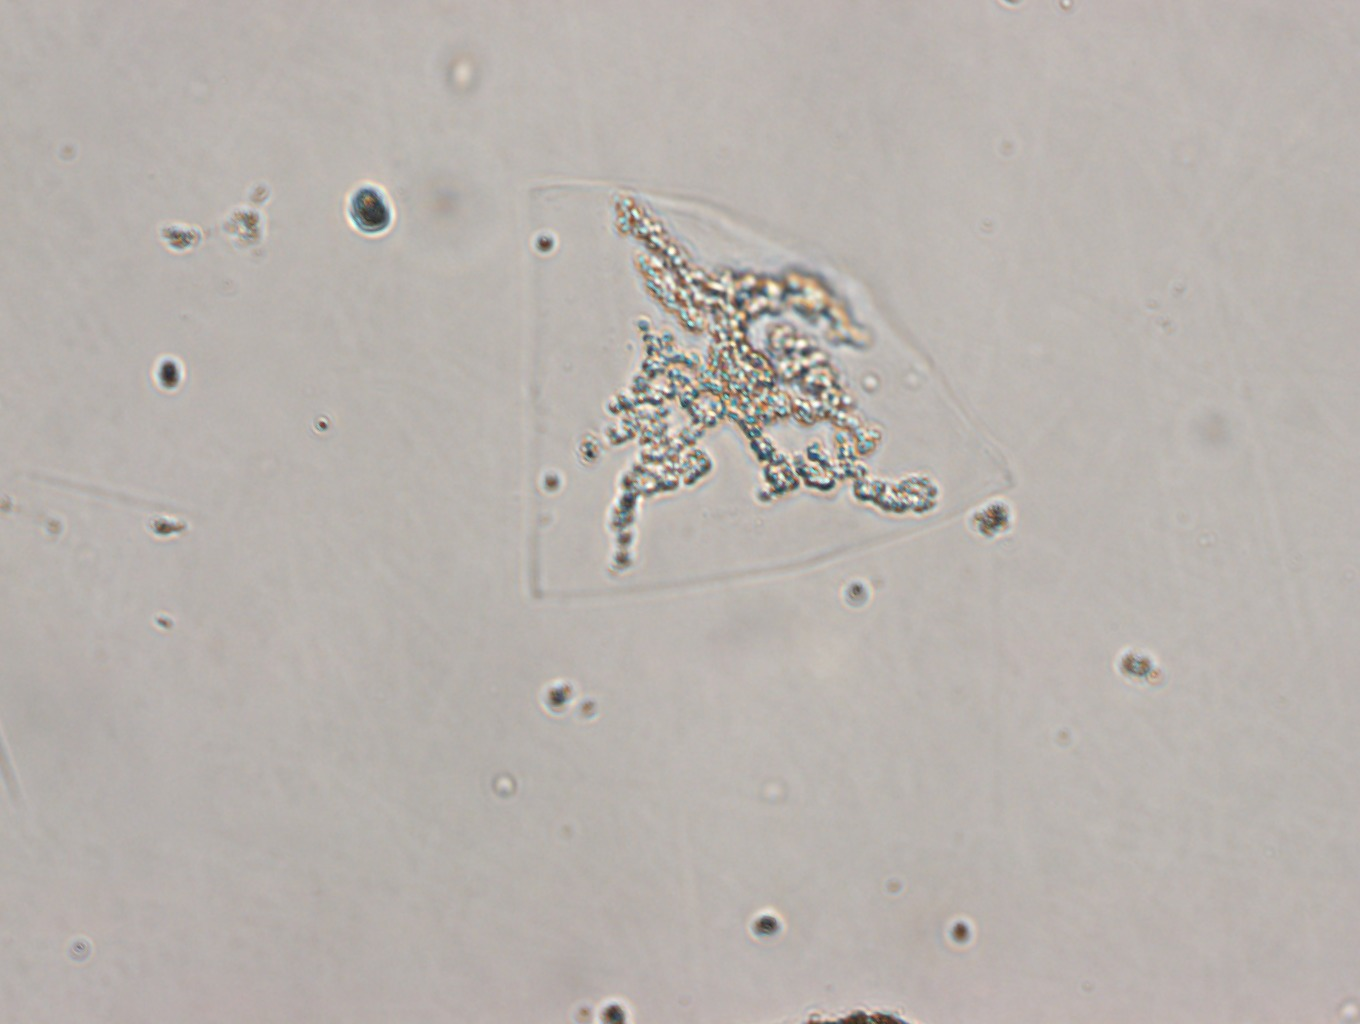helicotheca: (516, 179, 1020, 602)
